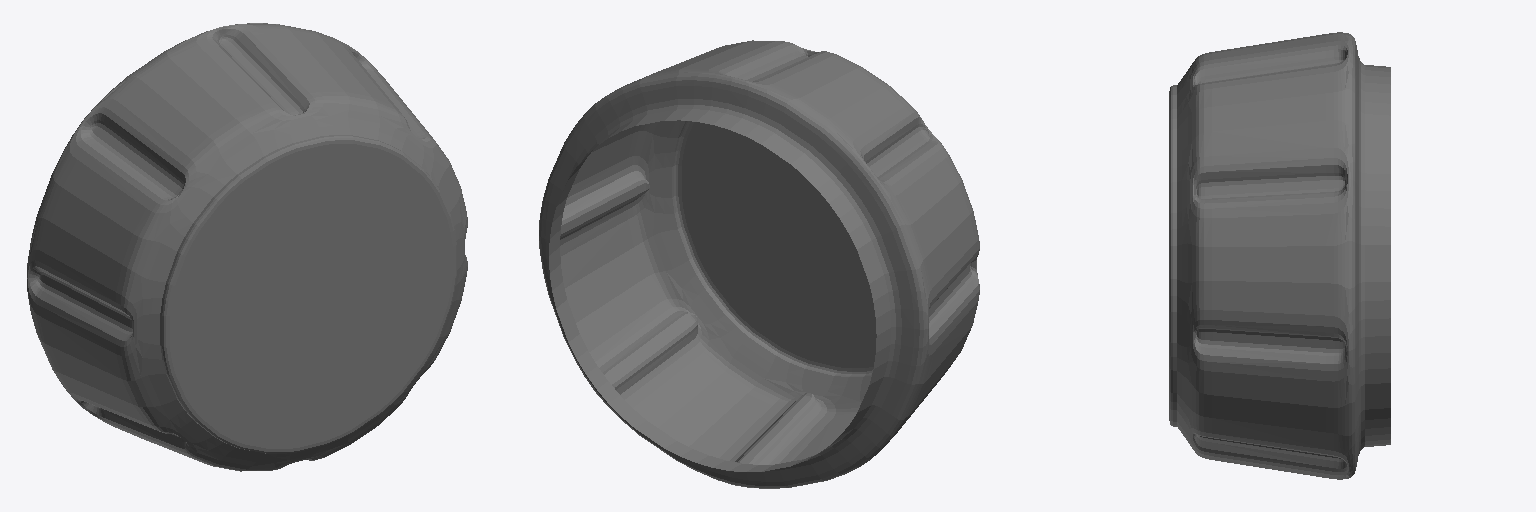
Rendered from kleinesDrehrad.obj.
3 views of the same model, side by side, from view 1: azimuth 30°, elevation 25°; view 2: azimuth 150°, elevation 25°; view 3: azimuth 270°, elevation 25° (orthographic).
Visible parts, largest first — view 1: Archmodels70_056_082_Mesh.273; view 2: Archmodels70_056_082_Mesh.273; view 3: Archmodels70_056_082_Mesh.273.
Part boxes in pixels (x1,y1,x2,y2): Archmodels70_056_082_Mesh.273: (27,23,467,471); Archmodels70_056_082_Mesh.273: (539,40,979,488); Archmodels70_056_082_Mesh.273: (1169,32,1390,479).
Size of the model in its own units: 9.47 by 9.47 by 4.65.